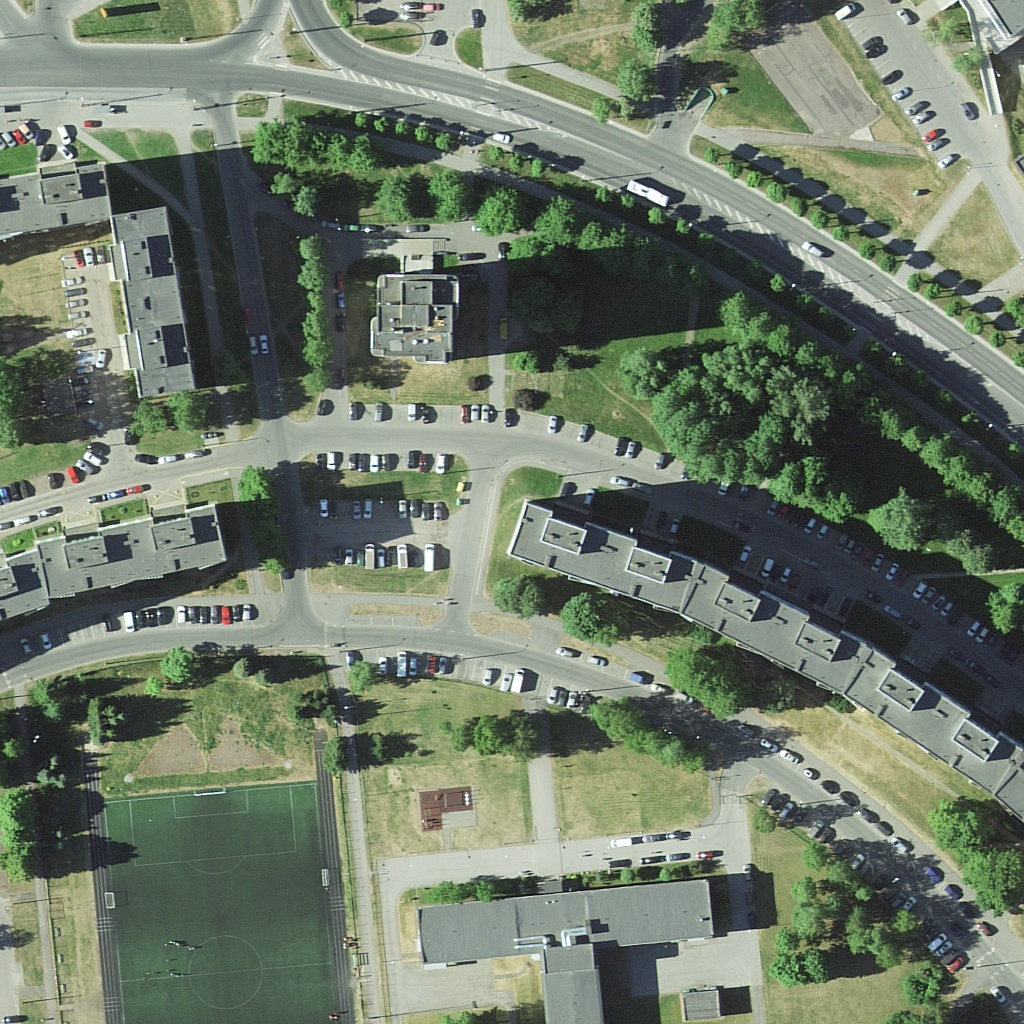building: (422, 873, 718, 971), (505, 497, 704, 625), (852, 658, 1018, 798), (689, 566, 869, 691), (37, 495, 228, 602), (112, 209, 198, 393), (2, 157, 123, 242), (363, 273, 463, 362)
